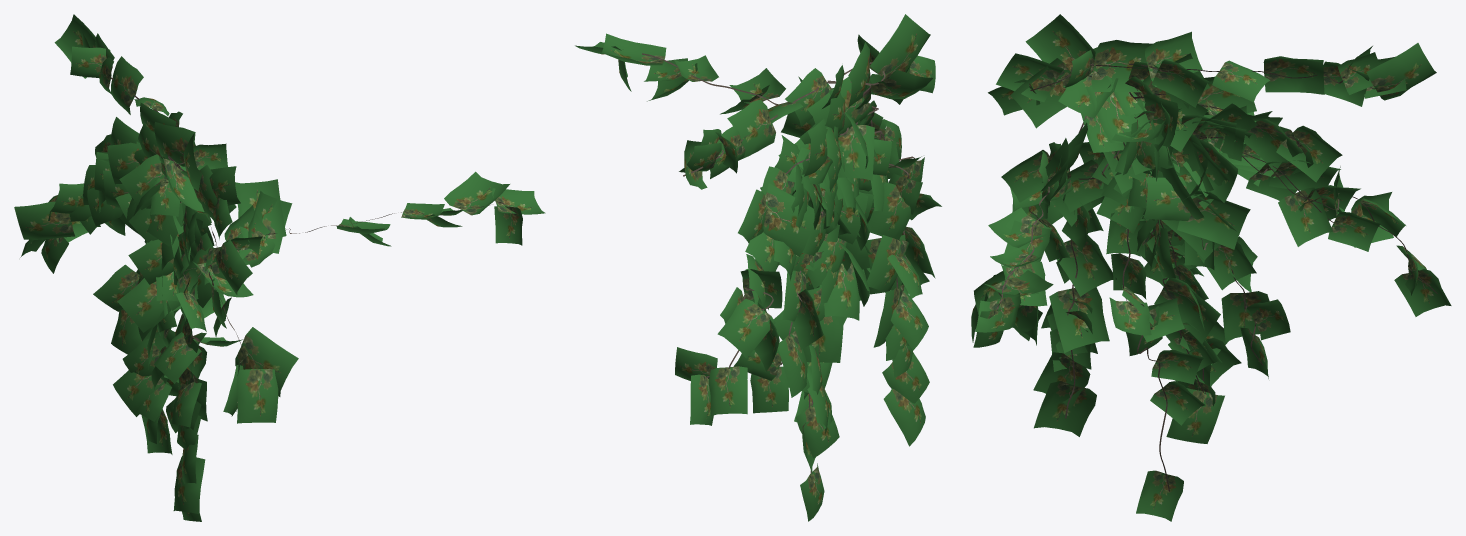
Rendered from SM_Climber_03a.fbx.
The picture shows the model from 3 angles, left to right: view 1: azimuth 30°, elevation 25°; view 2: azimuth 150°, elevation 25°; view 3: azimuth 270°, elevation 25°; orthographic projection. The views are drawn at different scales.
Parts seen in each view (by area): view 1: SM_Climber_03a_LOD0; view 2: SM_Climber_03a_LOD0; view 3: SM_Climber_03a_LOD0.
Boxes of the visible parts, x1=… form: SM_Climber_03a_LOD0: x1=14, y1=14, x2=545, y2=521; SM_Climber_03a_LOD0: x1=575, y1=14, x2=941, y2=521; SM_Climber_03a_LOD0: x1=971, y1=14, x2=1451, y2=521.
Size of the model in its own units: 1122 by 1176 by 1315.
